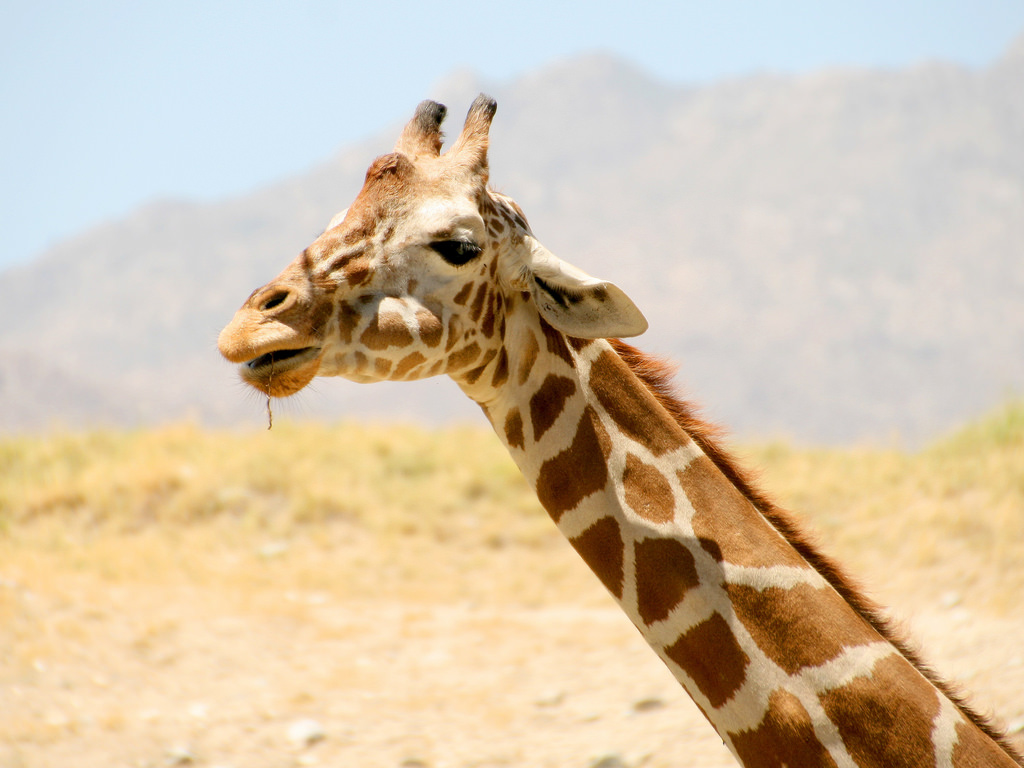giraffe: (194, 88, 940, 742)
